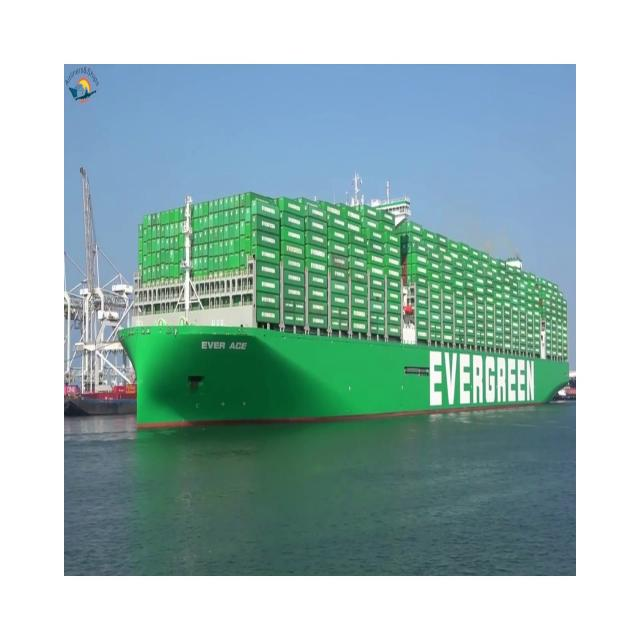OCR: (419, 344, 539, 417), (195, 324, 255, 354)
